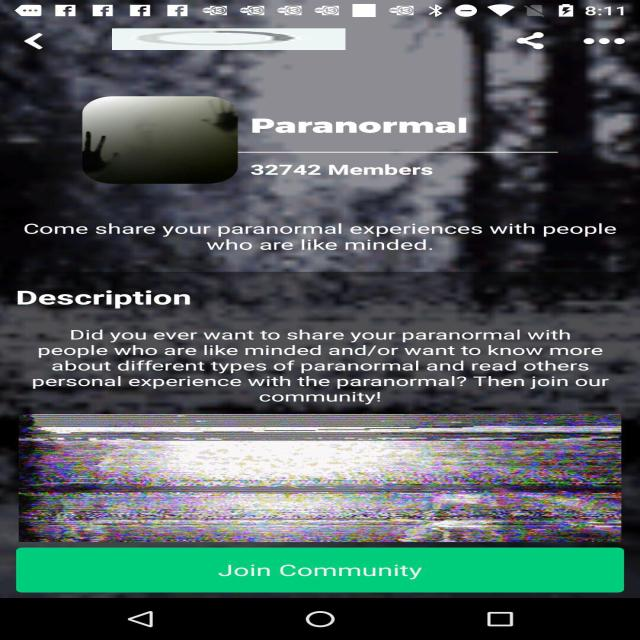misdirection: (112, 28, 345, 50)
